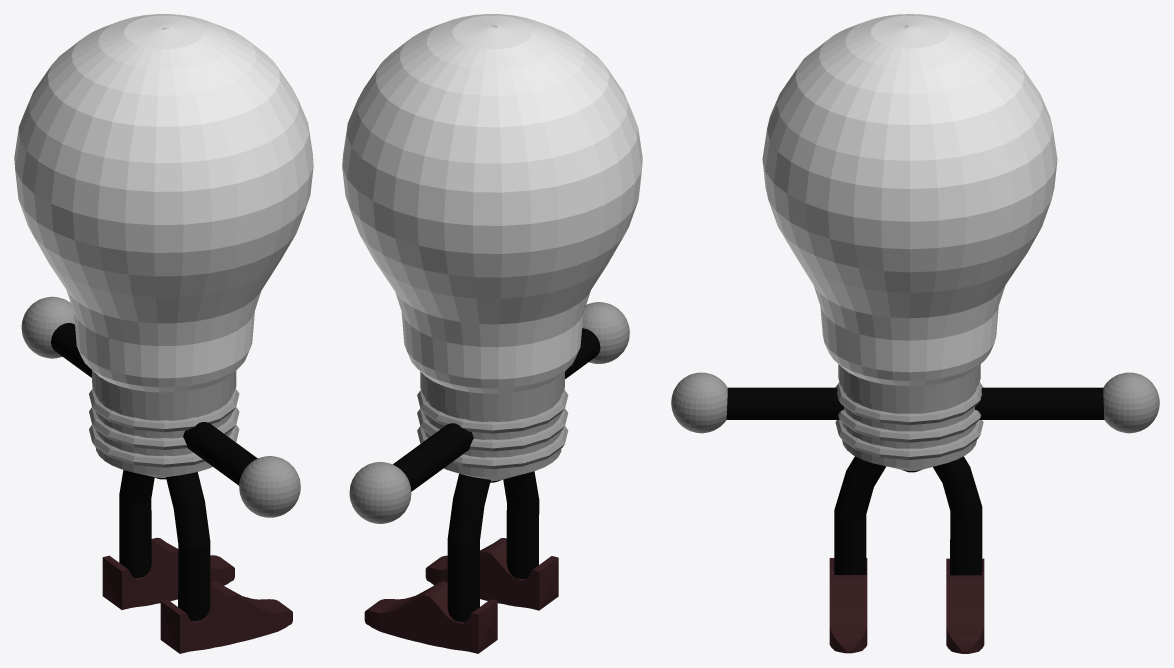
File: LightBulb.fbx
The picture shows the model from 3 angles, left to right: view 1: azimuth 30°, elevation 25°; view 2: azimuth 150°, elevation 25°; view 3: azimuth 270°, elevation 25°; orthographic projection. The views are drawn at different scales.
Visible parts, largest first — view 1: LightBulb, Body; view 2: LightBulb, Body; view 3: LightBulb, Body.
Part boxes in pixels (bbox=[...]): LightBulb: bbox=[14, 14, 313, 479]; Body: bbox=[21, 296, 300, 653]; LightBulb: bbox=[342, 14, 642, 482]; Body: bbox=[349, 302, 629, 653]; LightBulb: bbox=[762, 14, 1057, 472]; Body: bbox=[671, 372, 1159, 653].
Bounding box in the file's own units: 242 × 529 × 401.
